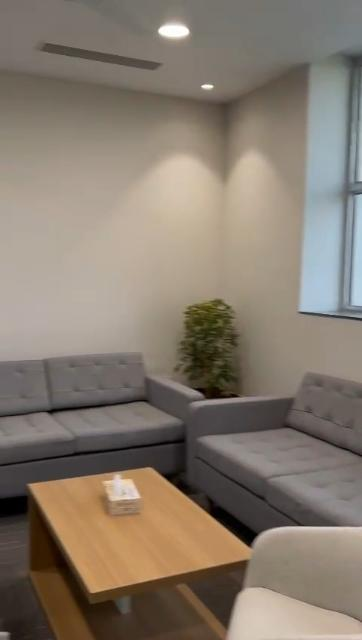object: (23, 472, 235, 640), (207, 369, 362, 545), (6, 351, 180, 459), (225, 504, 362, 638), (180, 280, 248, 396)
wall: (4, 68, 304, 302), (7, 307, 183, 347), (248, 313, 362, 371)
